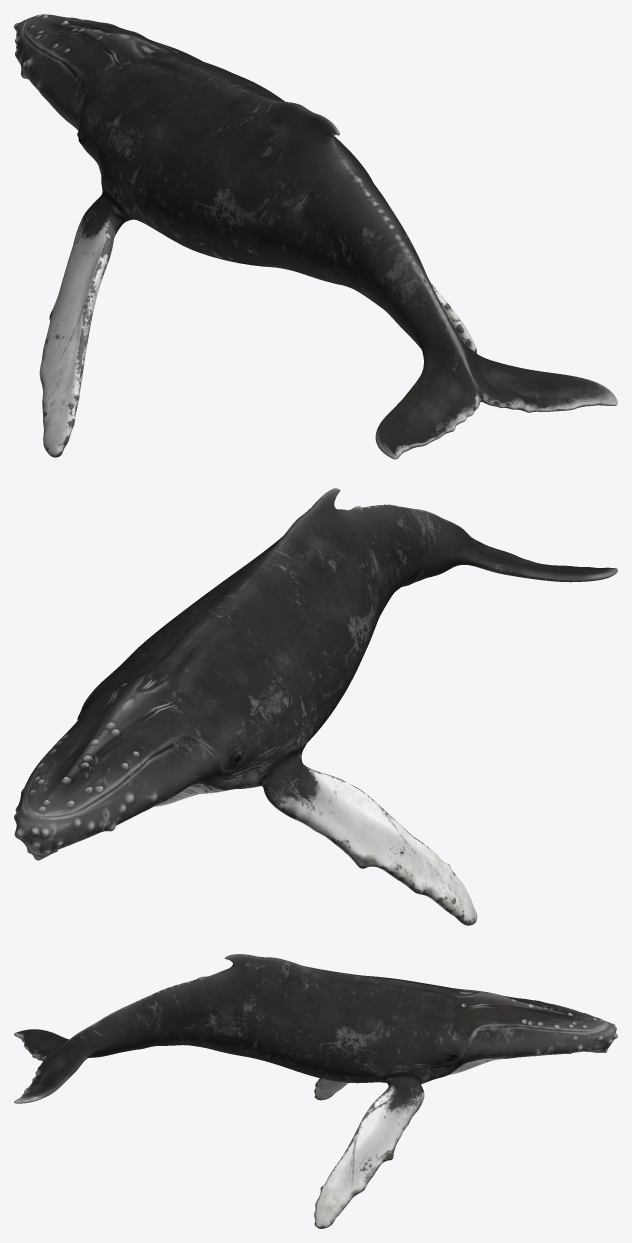
File: marine-humpback.glb
3 renders of one model, top to bottom at view 1: azimuth 30°, elevation 25°; view 2: azimuth 150°, elevation 25°; view 3: azimuth 270°, elevation 25°, orthographic. The views are drawn at different scales.
Parts seen in each view (by area): view 1: polySurface1; view 2: polySurface1; view 3: polySurface1.
Boxes of the visible parts, x1,y1,x2,y2 form: polySurface1: (14,14,617,459); polySurface1: (14,488,617,925); polySurface1: (14,954,617,1228).
Size of the model in its own units: 7.71 by 5.76 by 15.
1 material, 1 textured.
